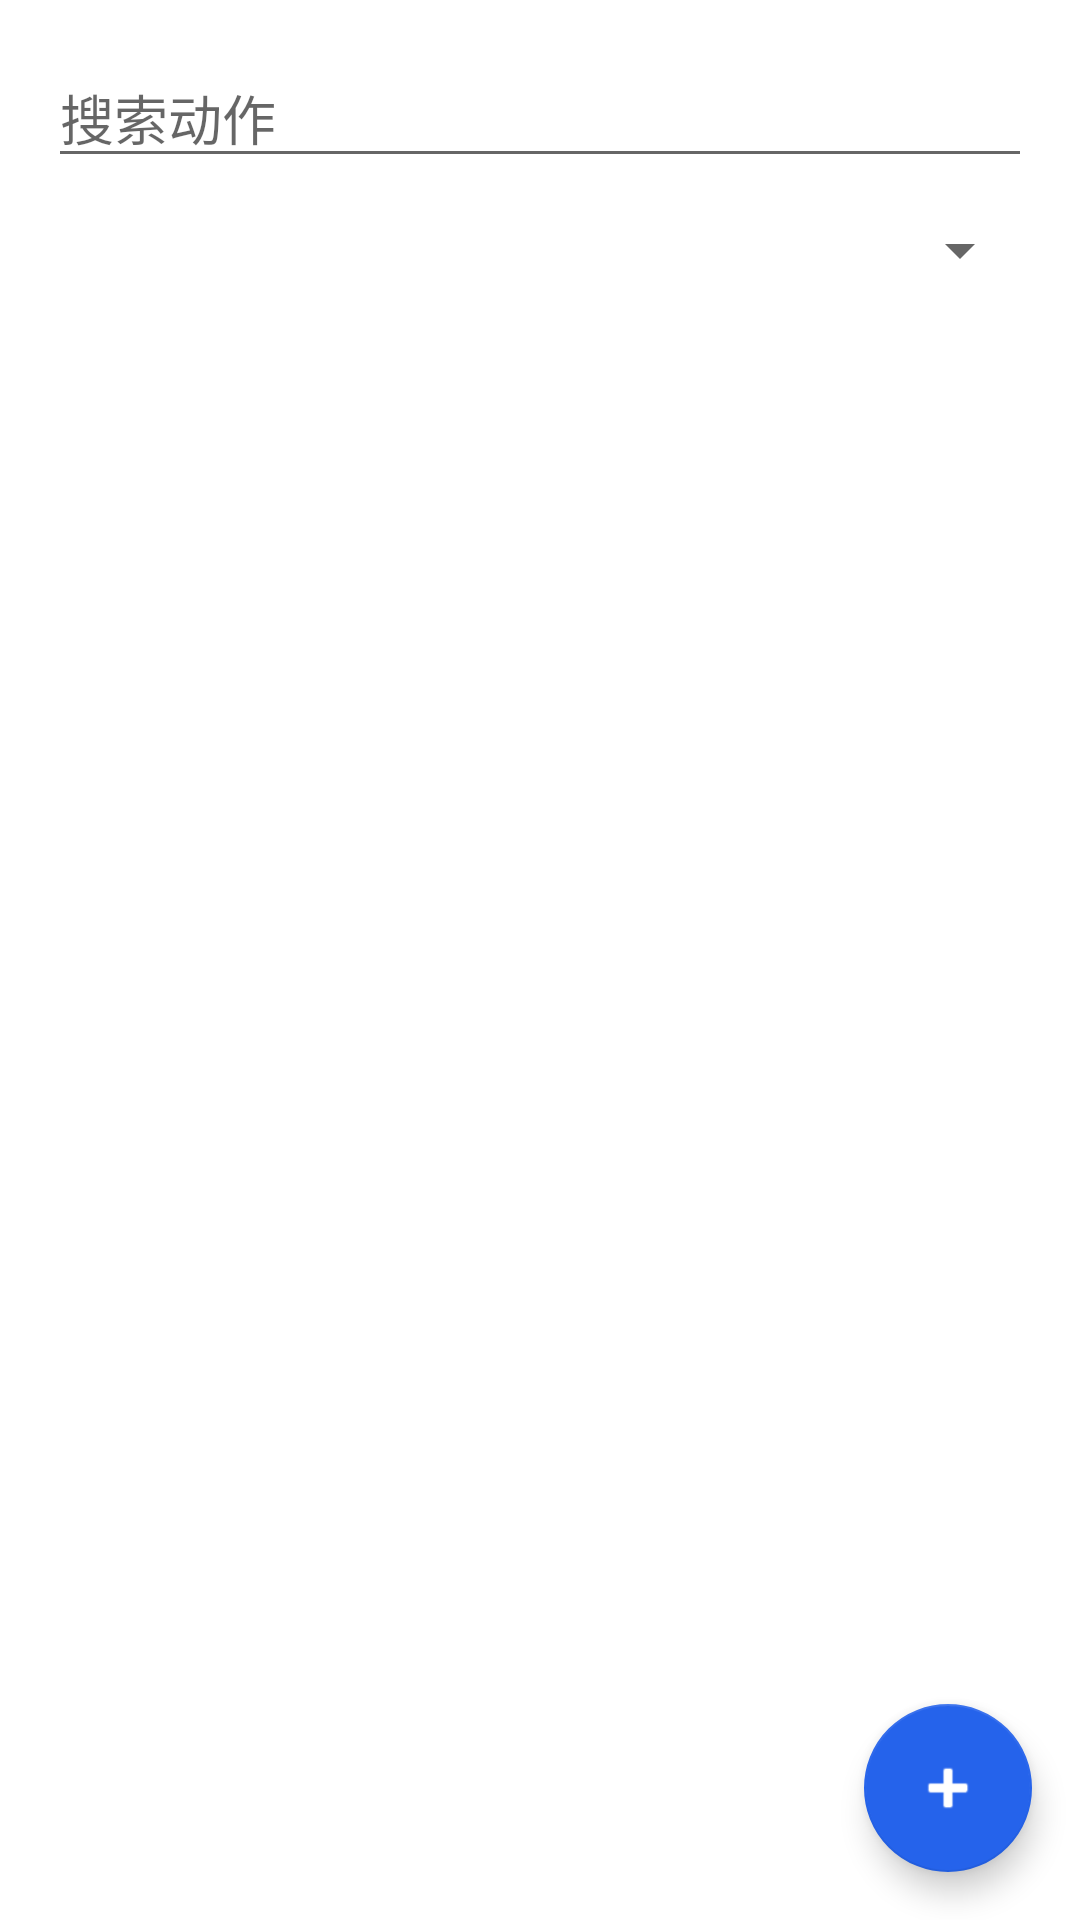

Icons on this 1080 × 1920 Android screen, each with the point to tap as [x,y]:
新增: [948,1788]
